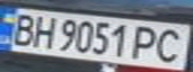0: (75, 18, 93, 54)
1: (109, 21, 133, 59)
5: (90, 19, 112, 56)
9: (54, 16, 78, 52)
B: (3, 11, 39, 47)
C: (151, 26, 190, 64)
H: (27, 12, 57, 50)
P: (127, 22, 163, 61)
